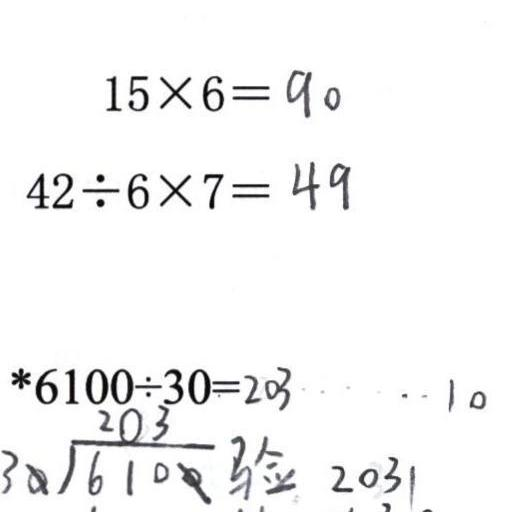ans: (241, 360, 487, 415), (287, 152, 352, 211), (281, 63, 340, 118)
